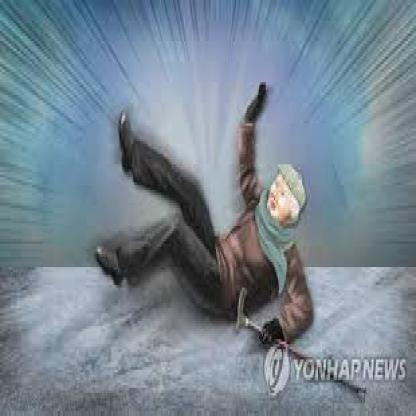Fall_Down: (94, 78, 318, 350)
